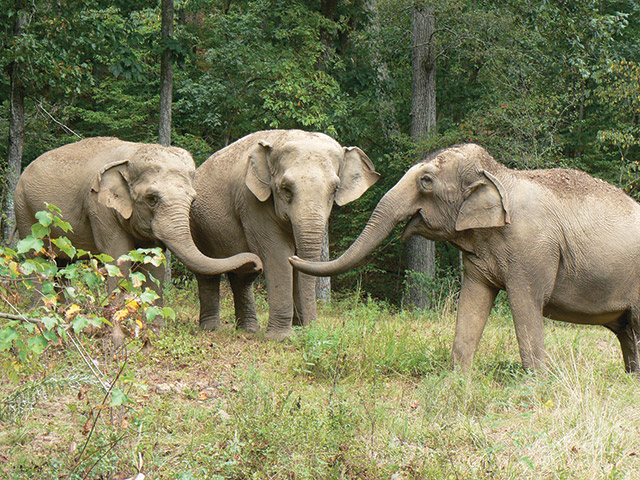elephant: (289, 139, 640, 378), (8, 133, 264, 336), (191, 119, 387, 338)
